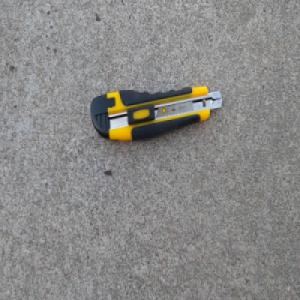Cutter: (89, 85, 223, 142)
